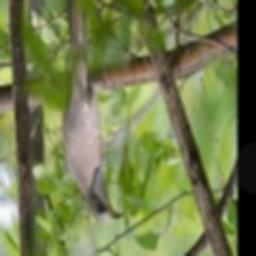Cuckoo: (62, 0, 123, 219)
